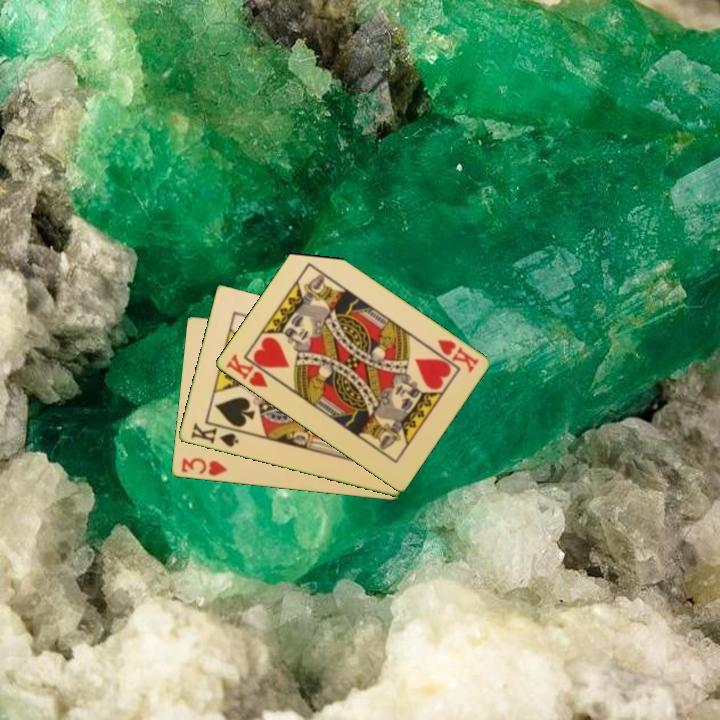3h: (177, 454, 229, 479)
Kh: (222, 350, 278, 391), (433, 336, 481, 376)
Ks: (187, 419, 243, 450)
